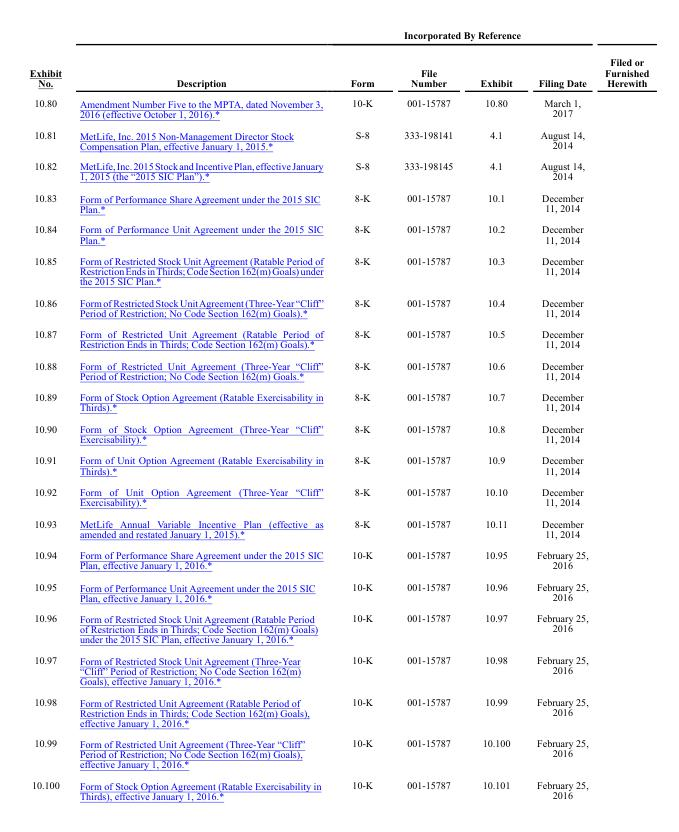table: (28, 28, 648, 801)
table column: (69, 28, 336, 801), (388, 28, 465, 801), (523, 28, 595, 801), (465, 28, 523, 801), (595, 28, 648, 801), (336, 28, 388, 801), (28, 28, 69, 801)
table column header: (28, 28, 648, 92)
table row: (28, 249, 648, 291), (28, 607, 648, 649), (28, 690, 648, 732), (28, 732, 648, 774), (28, 649, 648, 690), (28, 53, 648, 92), (28, 92, 648, 124), (28, 186, 648, 218), (28, 291, 648, 323), (28, 354, 648, 386), (28, 417, 648, 449), (28, 480, 648, 512), (28, 512, 648, 544), (28, 575, 648, 607), (28, 124, 648, 155), (28, 155, 648, 186), (28, 218, 648, 249), (28, 323, 648, 354), (28, 386, 648, 417), (28, 449, 648, 480), (28, 544, 648, 575), (28, 774, 648, 801), (28, 28, 648, 53)
table spanning cell: (69, 28, 336, 92), (336, 28, 595, 53), (595, 28, 648, 92), (28, 28, 69, 92)
